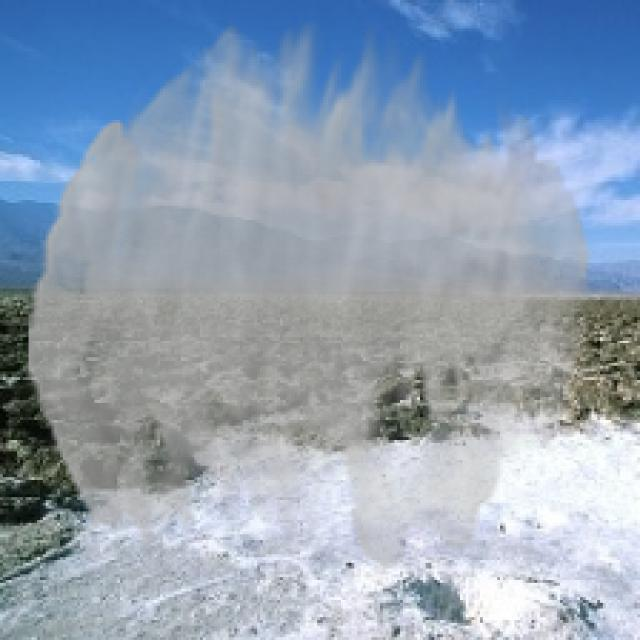Smoke: (29, 20, 592, 569)
